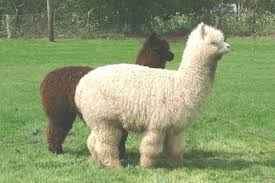alpaca: (74, 21, 229, 166), (40, 32, 174, 156)
